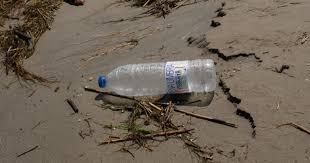paper: (97, 59, 216, 98)
